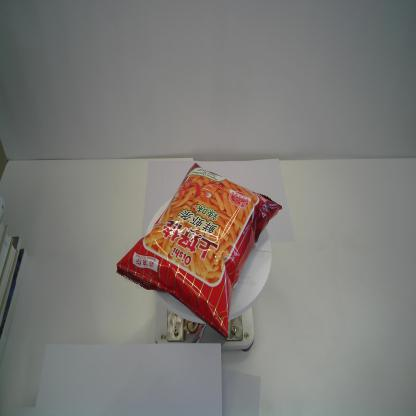Puffed Food: (116, 162, 283, 340)
